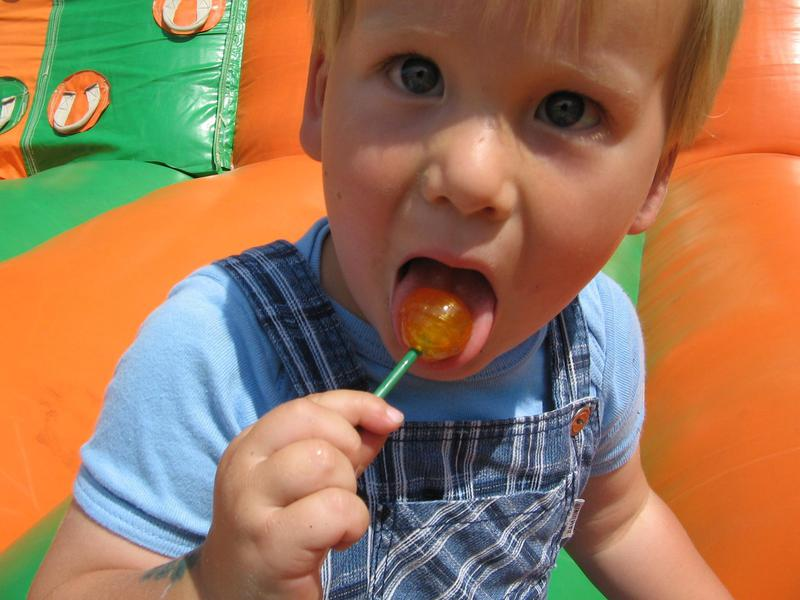person: (31, 1, 764, 598)
